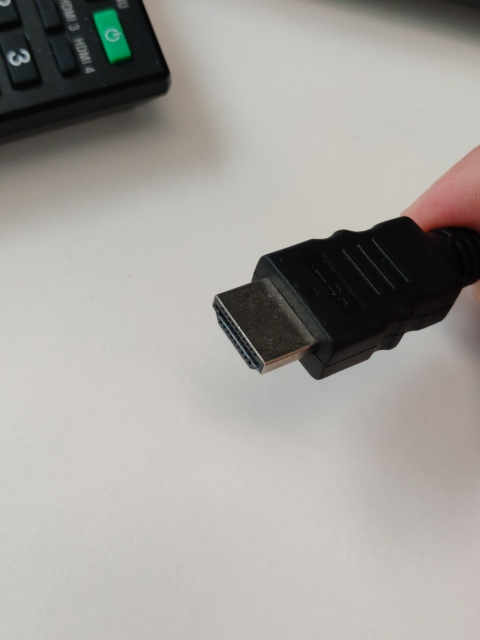HDMI: (212, 277, 317, 374)
